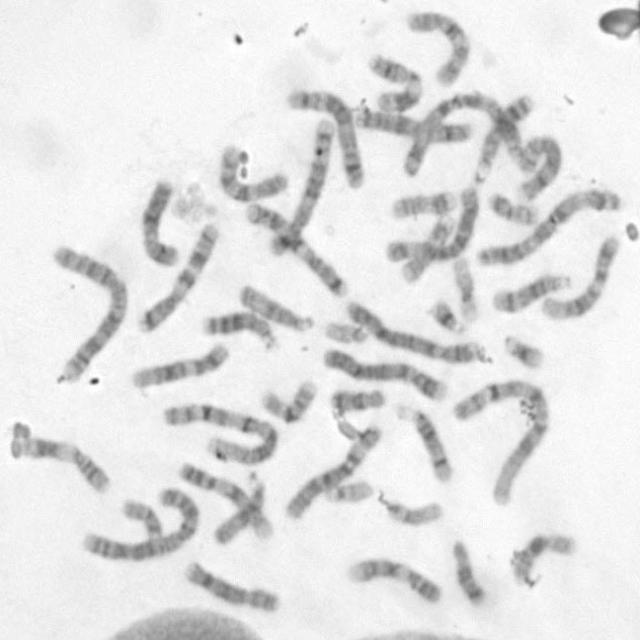A1: (450, 375, 551, 508), (164, 402, 280, 468)
A2: (48, 243, 130, 385), (79, 484, 201, 563)
A3: (475, 186, 623, 270), (402, 89, 528, 179)
B4: (345, 299, 480, 366), (323, 348, 448, 403)
B5: (266, 118, 336, 258), (284, 87, 366, 192)
C10: (404, 8, 472, 89), (218, 142, 290, 204)
C11: (20, 436, 114, 498), (365, 50, 425, 116)
C12: (540, 233, 621, 321), (129, 341, 232, 390)
C6: (283, 424, 383, 522), (383, 184, 481, 267)
C7: (243, 200, 352, 299), (136, 222, 220, 334)
C8: (181, 558, 282, 614), (516, 133, 565, 203)
C9: (176, 461, 276, 542), (343, 554, 442, 610)
D13: (472, 91, 536, 185), (202, 310, 280, 353)
D14: (391, 401, 453, 485), (491, 272, 572, 316)
D15: (212, 468, 269, 546), (237, 283, 317, 334)
E16: (508, 530, 580, 586), (259, 377, 321, 425)
E17: (396, 213, 456, 286), (392, 188, 458, 217)
E18: (449, 539, 489, 610), (329, 389, 388, 414)
F19: (452, 255, 483, 326), (384, 500, 444, 526)
F20: (121, 496, 164, 541), (485, 192, 539, 226)
G21: (500, 332, 547, 372), (425, 294, 467, 336)
G22: (321, 478, 377, 506), (320, 318, 370, 346)
X: (353, 102, 474, 146), (139, 180, 182, 268)
